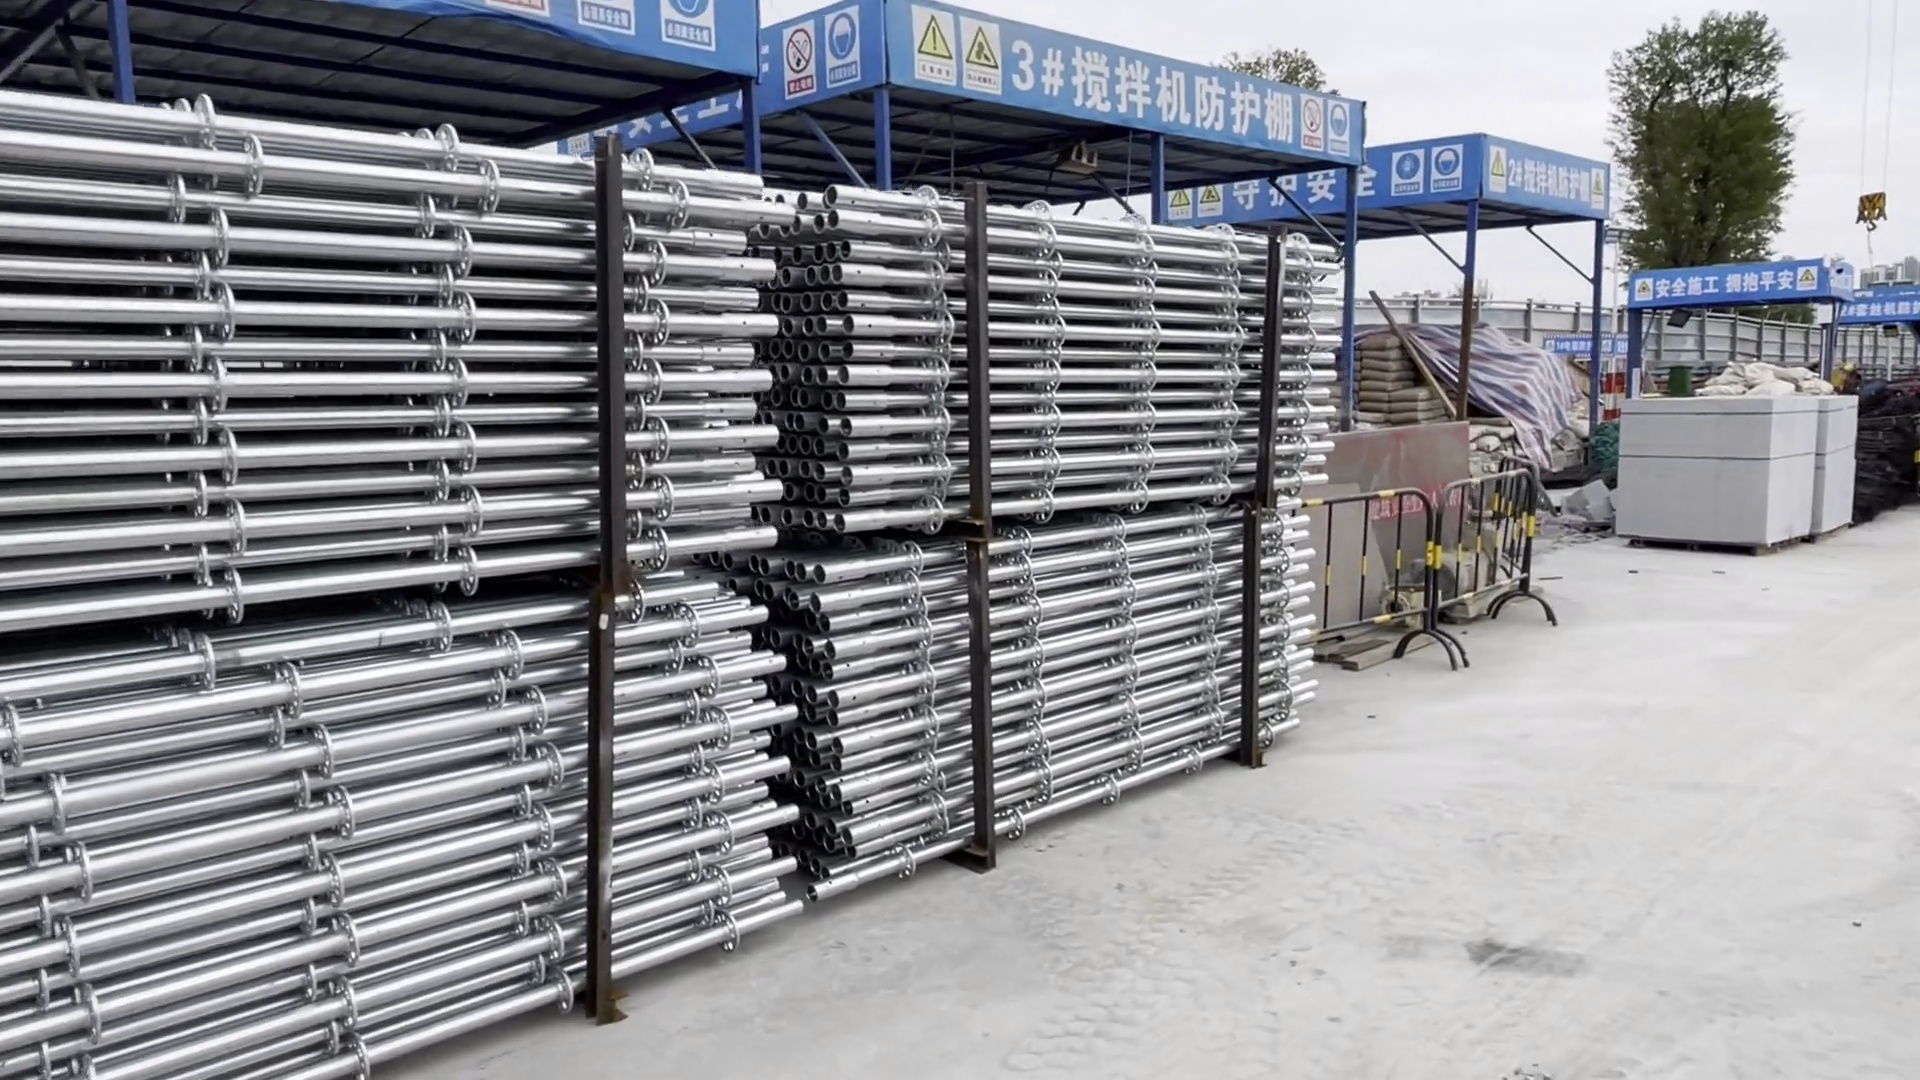brick: (1610, 388, 1869, 556)
scaffold: (1, 75, 1336, 1080)
slogan: (1145, 141, 1481, 218), (754, 1, 1019, 98), (1617, 255, 1826, 303)
